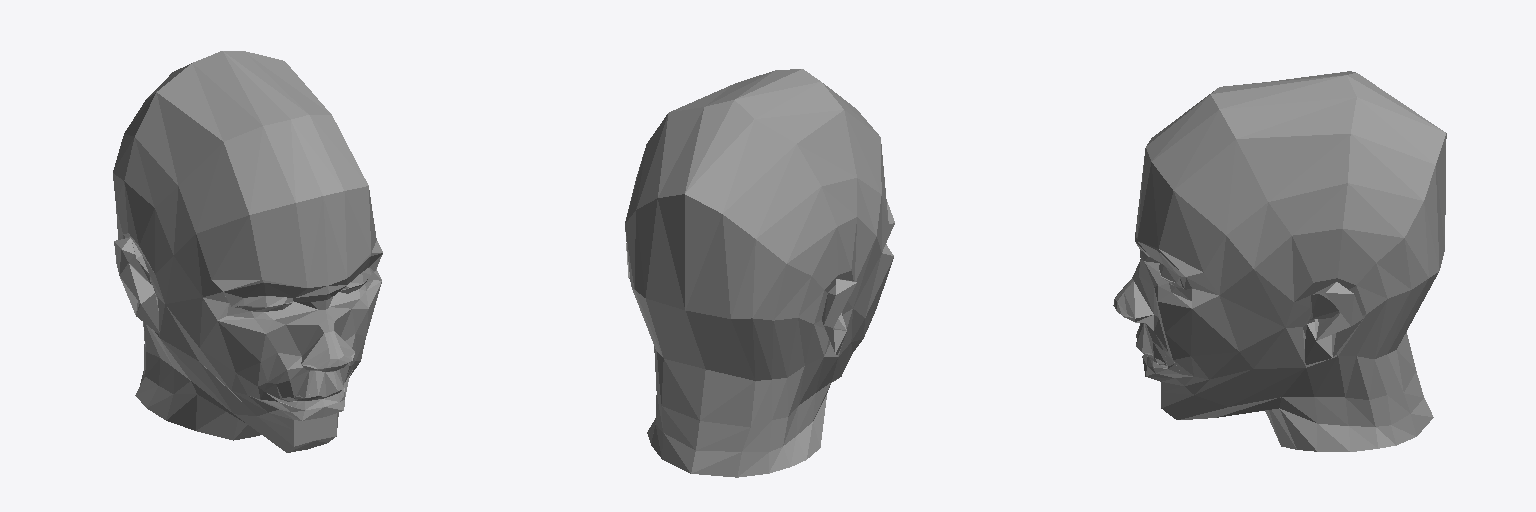
Rendered from head.obj.
3 views of the same model, side by side, from view 1: azimuth 30°, elevation 25°; view 2: azimuth 150°, elevation 25°; view 3: azimuth 270°, elevation 25° (orthographic).
Parts seen in each view (by area): view 1: Plane.001_Plane; view 2: Plane.001_Plane; view 3: Plane.001_Plane.
Boxes of the visible parts, <box> form: Plane.001_Plane: <box>113,51,382,452</box>; Plane.001_Plane: <box>625,69,894,477</box>; Plane.001_Plane: <box>1113,71,1446,451</box>.
Size of the model in its own units: 2.82 by 4.35 by 3.63.